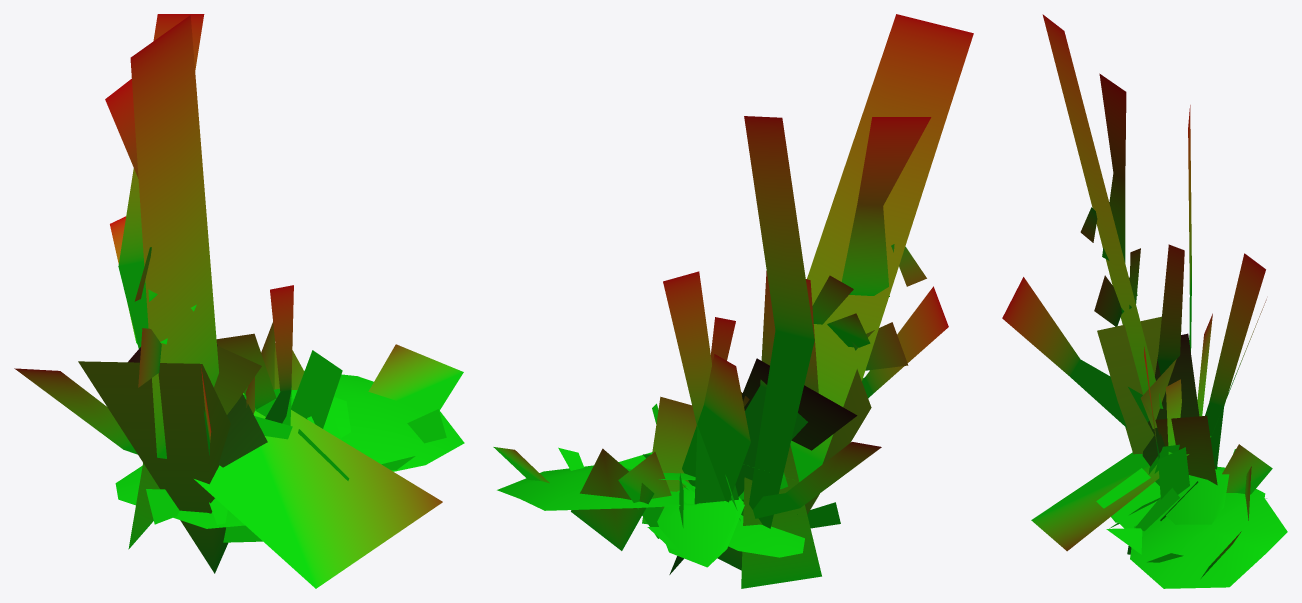
File: DrySet01_Var1_LOD1.fbx
3 views of the same model, side by side, from view 1: azimuth 30°, elevation 25°; view 2: azimuth 150°, elevation 25°; view 3: azimuth 270°, elevation 25° (orthographic). The views are drawn at different scales.
Parts seen in each view (by area): view 1: DrySet01_Var1_LOD1; view 2: DrySet01_Var1_LOD1; view 3: DrySet01_Var1_LOD1.
Part boxes in pixels (left/top/right/bottom): DrySet01_Var1_LOD1: left=14, top=14, right=464, bottom=588; DrySet01_Var1_LOD1: left=493, top=14, right=973, bottom=588; DrySet01_Var1_LOD1: left=1002, top=14, right=1287, bottom=588.
Bounding box in the file's own units: 72.11 × 96.43 × 51.72.
